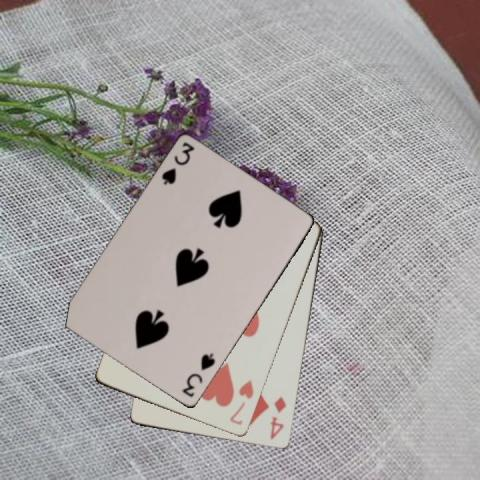3s: (179, 351, 217, 399), (159, 140, 196, 188)
4d: (267, 394, 288, 441)
7h: (227, 377, 255, 427)
